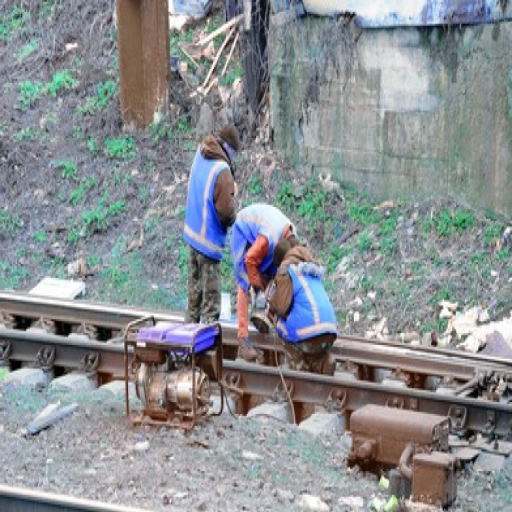portable_generator: (124, 316, 224, 433)
